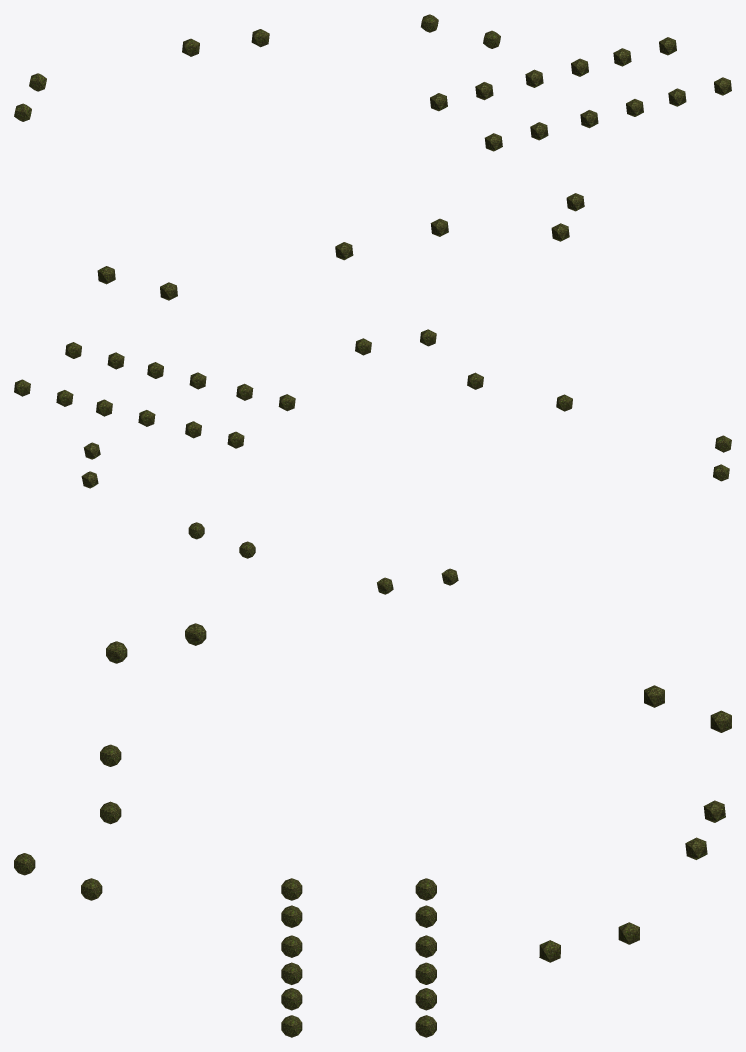
The model's file is tree.obj.
3 renders of one model, top to bottom at view 1: azimuth 30°, elevation 25°; view 2: azimuth 150°, elevation 25°; view 3: azimuth 270°, elevation 25°, orthographic. The views are drawn at different scales.
Bounding box in the file's own units: 310 × 8.16 × 234.
